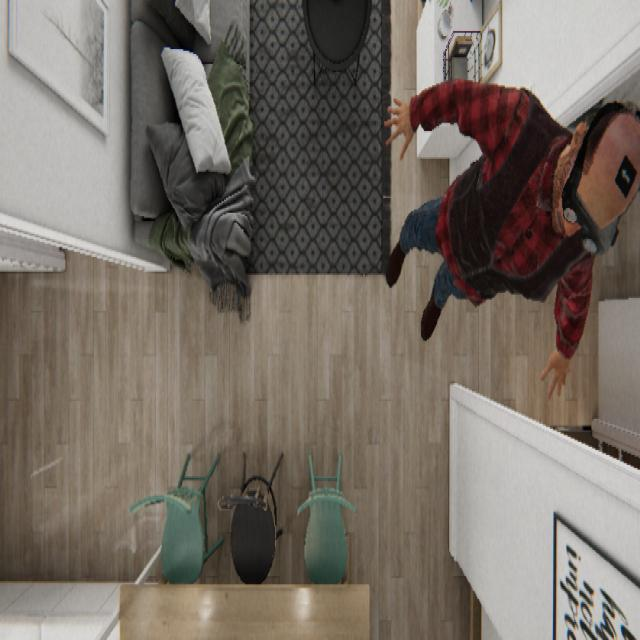Human: (382, 77, 638, 399)
UnityLogo: (613, 150, 637, 200)
